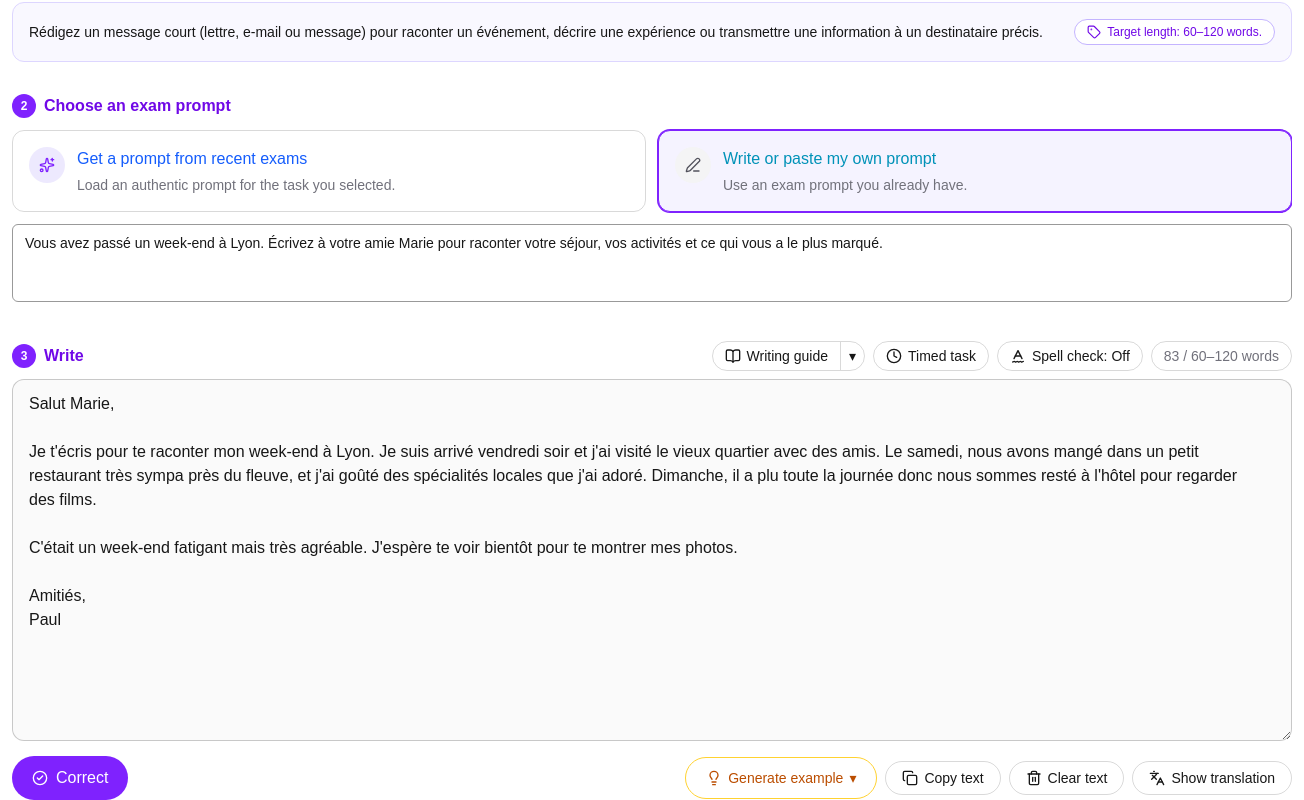
Scenario: WritingWorkspace: example card and translation split › splits the editor when translating and restores it when hidden
This screenshot has width=1304, height=800.
(page scrolled)
Click the button "Show translation". click: {"x": 1212, "y": 778}
box: [1132, 761, 1292, 795]
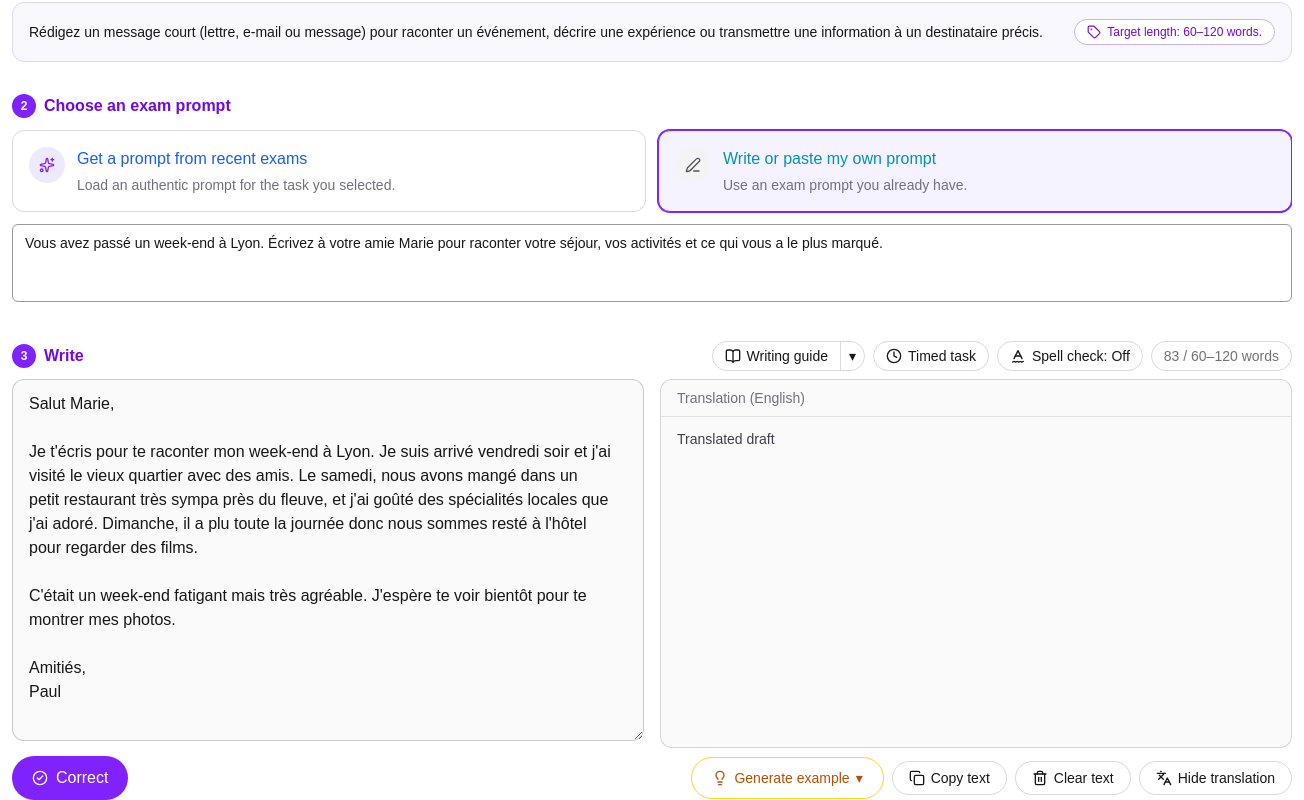
Expected: the element with id "essay-content" shows "Translated draft", [677, 431, 774, 447]
Click the button "Hide translation". click: {"x": 1215, "y": 778}
box: [1139, 761, 1292, 795]
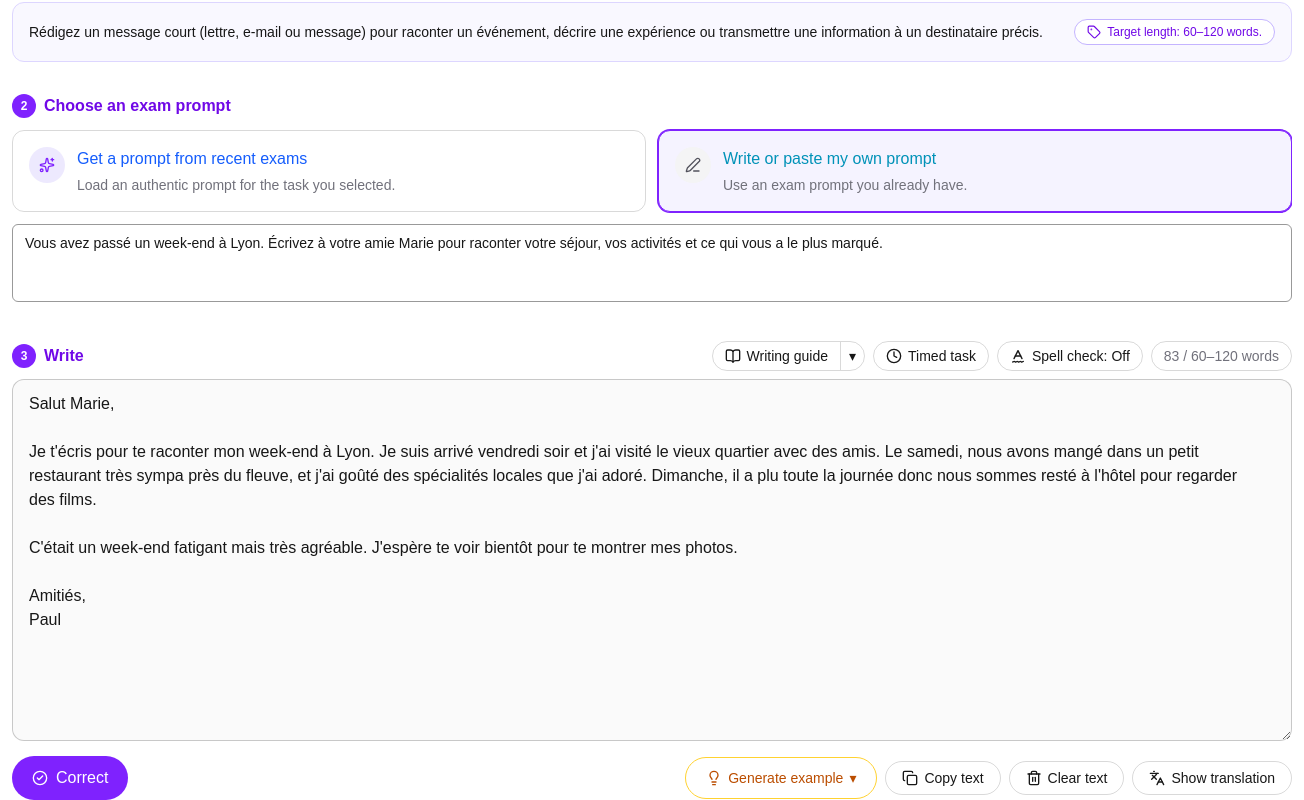
Expected: the text "Translated draft" is gone
